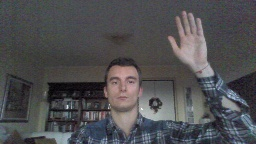Mano_aperta: (166, 9, 209, 69)
